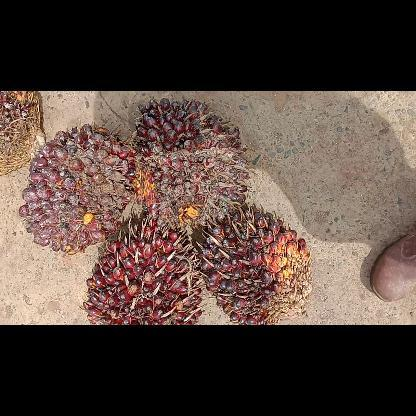Kurang masak: (127, 96, 253, 232), (81, 218, 207, 324)
TBS mentah: (17, 120, 139, 256), (197, 204, 315, 324)
